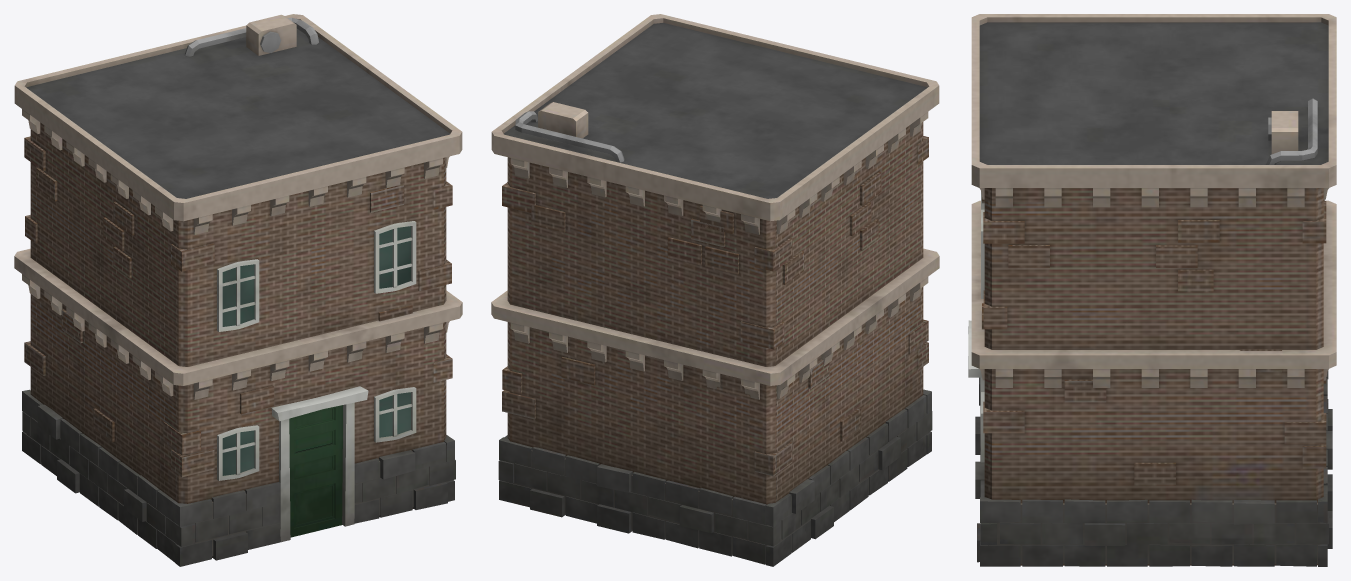
Rendered from 2Story_2.glb.
The picture shows the model from 3 angles, left to right: view 1: azimuth 30°, elevation 25°; view 2: azimuth 150°, elevation 25°; view 3: azimuth 270°, elevation 25°; orthographic projection. The views are drawn at different scales.
Visible parts, largest first — view 1: 2Story_2_medium; view 2: 2Story_2_medium; view 3: 2Story_2_medium.
Part boxes in pixels (x1,y1,x2,y2): 2Story_2_medium: (14, 14, 462, 566); 2Story_2_medium: (491, 14, 939, 566); 2Story_2_medium: (968, 14, 1336, 566).
Bounding box in the file's own units: 2.16 × 2.76 × 2.17.
Materials: 2 (2 with a texture image).
